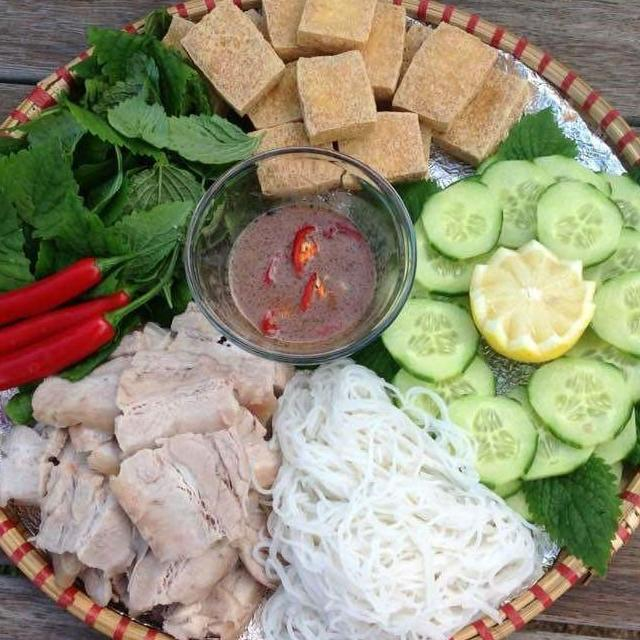bun: (235, 344, 551, 640)
bun dau: (0, 7, 640, 640)
dau hu: (386, 14, 536, 170), (252, 0, 420, 101), (159, 0, 288, 123), (238, 114, 366, 202), (284, 41, 384, 150), (322, 96, 436, 190)
thit heo: (0, 286, 307, 640)
